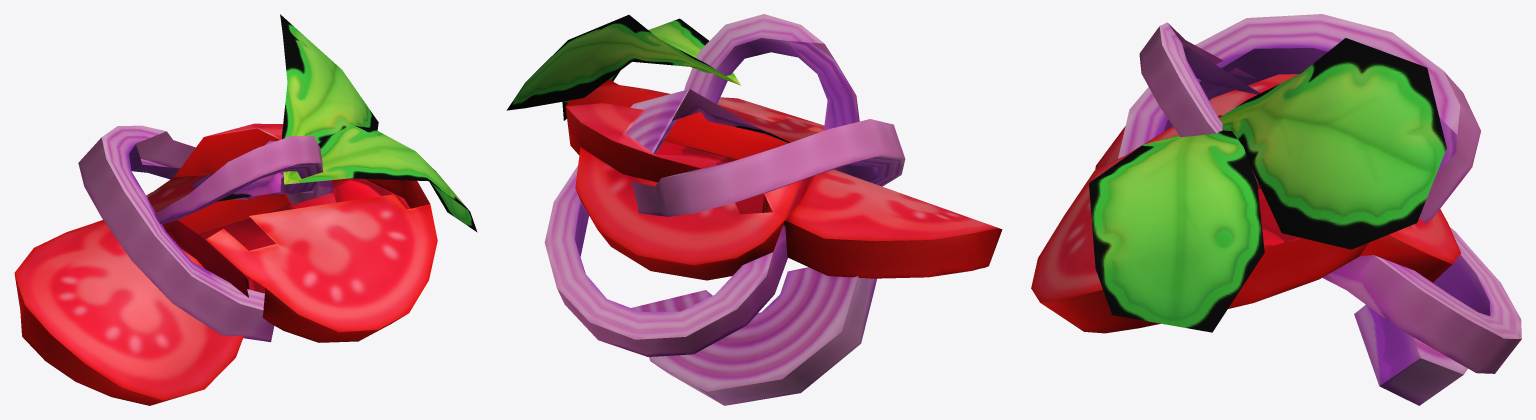
Rendered from cookbot_food_04.fbx.
The picture shows the model from 3 angles, left to right: view 1: azimuth 30°, elevation 25°; view 2: azimuth 150°, elevation 25°; view 3: azimuth 270°, elevation 25°; orthographic projection. The views are drawn at different scales.
Parts seen in each view (by area): view 1: veggies_02; view 2: veggies_02; view 3: veggies_02.
Boxes of the visible parts, box(x1,y1,x2,y2) form: veggies_02: box(14, 14, 477, 405); veggies_02: box(506, 14, 1002, 405); veggies_02: box(1031, 14, 1521, 405).
Size of the model in its own units: 1.25 by 0.9394 by 0.9803.
